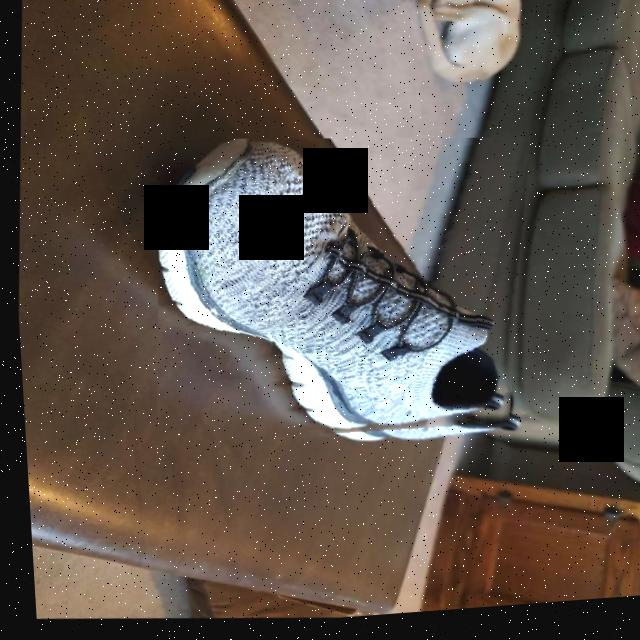shoe: (136, 120, 542, 473)
